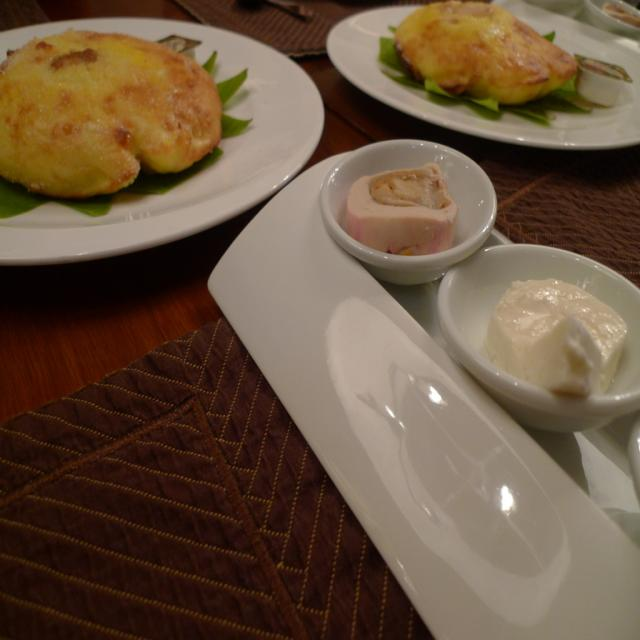non-organic waste: (0, 26, 339, 316), (327, 0, 640, 160), (429, 262, 640, 432), (322, 137, 487, 265)
